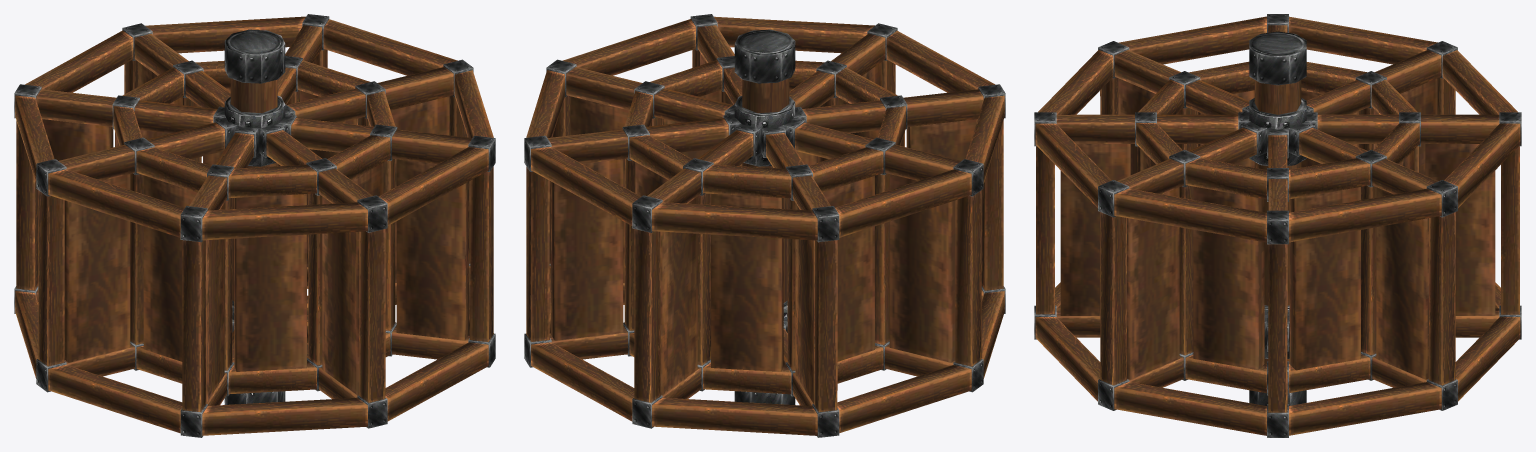
File: INST_SWORDLIGHT_WATERWHEEL.fbx
The picture shows the model from 3 angles, left to right: view 1: azimuth 30°, elevation 25°; view 2: azimuth 150°, elevation 25°; view 3: azimuth 270°, elevation 25°; orthographic projection.
Parts seen in each view (by area): view 1: INST_SWORDLIGHT_WATERWHEEL; view 2: INST_SWORDLIGHT_WATERWHEEL; view 3: INST_SWORDLIGHT_WATERWHEEL.
Part boxes in pixels (<box>): INST_SWORDLIGHT_WATERWHEEL: <box>14,14,495,437</box>; INST_SWORDLIGHT_WATERWHEEL: <box>524,14,1005,437</box>; INST_SWORDLIGHT_WATERWHEEL: <box>1034,14,1521,437</box>.
Bounding box in the file's own units: 122964 × 101238 × 122964.
5 materials, 5 textured.
